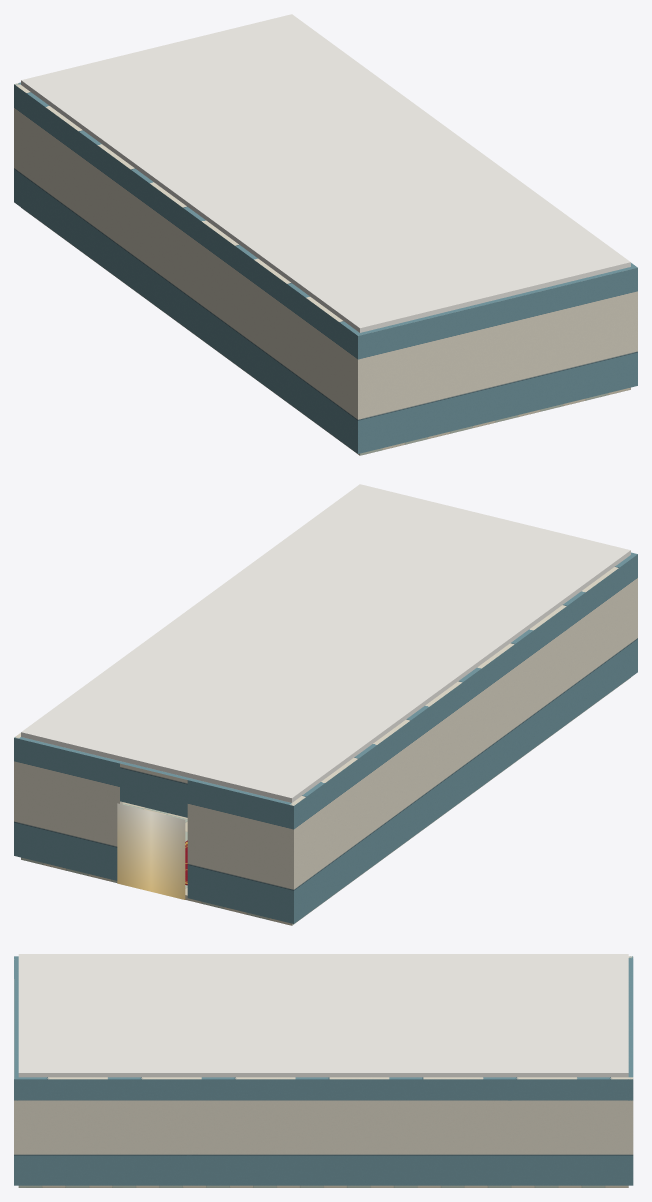
File: ending_room.glb
3 renders of one model, top to bottom at view 1: azimuth 30°, elevation 25°; view 2: azimuth 150°, elevation 25°; view 3: azimuth 270°, elevation 25°, orthographic. The views are drawn at different scales.
Visible parts, largest first — view 1: Ceiling-col, WallLeft-col, WallFront-col, Floor-col; view 2: Ceiling-col, WallLeft-col, WallBackLeft-col, WallBackRight-col, GateLight, WallBackLintel-col, Floor-col; view 3: Ceiling-col, WallRight-col, Floor-col, WallFront-col.
Boxes of the visible parts, x1,y1,x2,y2 form: Ceiling-col: (21,14,630,332); WallLeft-col: (14,83,362,453); WallFront-col: (355,266,637,453); Floor-col: (21,207,630,455); Ceiling-col: (21,484,630,802); WallLeft-col: (289,553,637,923); WallBackLeft-col: (187,778,296,923); WallBackRight-col: (14,737,122,880); GateLight: (117,803,185,899); WallBackLintel-col: (120,762,189,817); Floor-col: (21,677,630,925); Ceiling-col: (18,954,628,1077); WallRight-col: (14,1077,633,1185); Floor-col: (18,1185,628,1187); WallFront-col: (14,956,18,1132).
Size of what is drawn, in the model's own units: 12.4 by 5.4 by 26.6.
19 materials, 9 textured.
